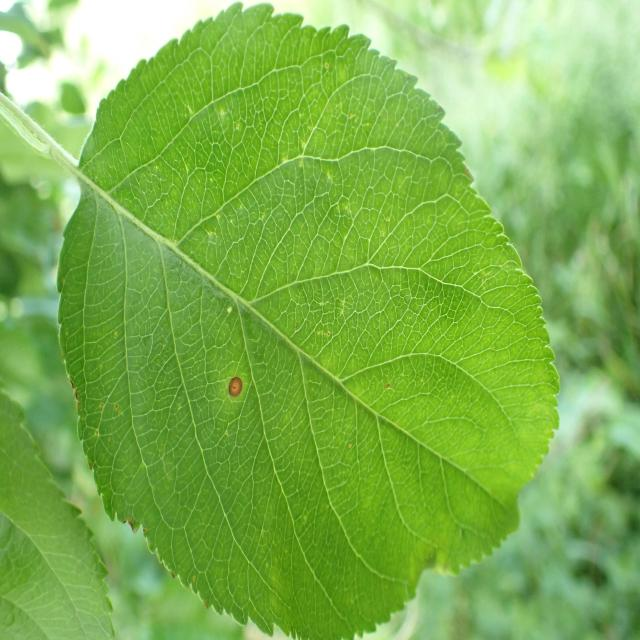Black Rot: (217, 332, 249, 438)
